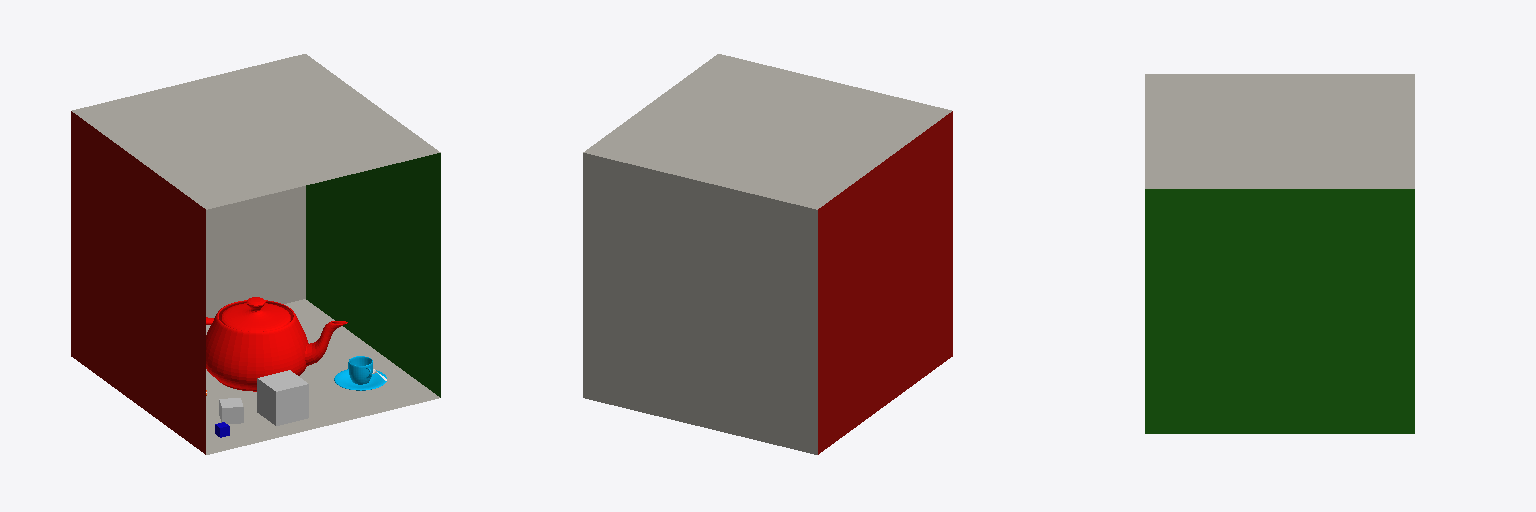
The model's file is TeaSet_v2.obj.
3 views of the same model, side by side, from view 1: azimuth 30°, elevation 25°; view 2: azimuth 150°, elevation 25°; view 3: azimuth 270°, elevation 25° (orthographic).
Parts seen in each view (by area): view 1: CornellBox-Empty, teapot, Cube.001, teacup, Cube.002; view 2: CornellBox-Empty; view 3: CornellBox-Empty.
Boxes of the visible parts, <box> form: CornellBox-Empty: <box>71,54,440,454</box>; teapot: <box>206,297,347,391</box>; Cube.001: <box>257,370,308,425</box>; teacup: <box>334,356,386,390</box>; Cube.002: <box>219,398,243,423</box>; CornellBox-Empty: <box>583,54,952,454</box>; CornellBox-Empty: <box>1145,74,1414,433</box>.
Size of the model in its own units: 10 by 10.13 by 10.